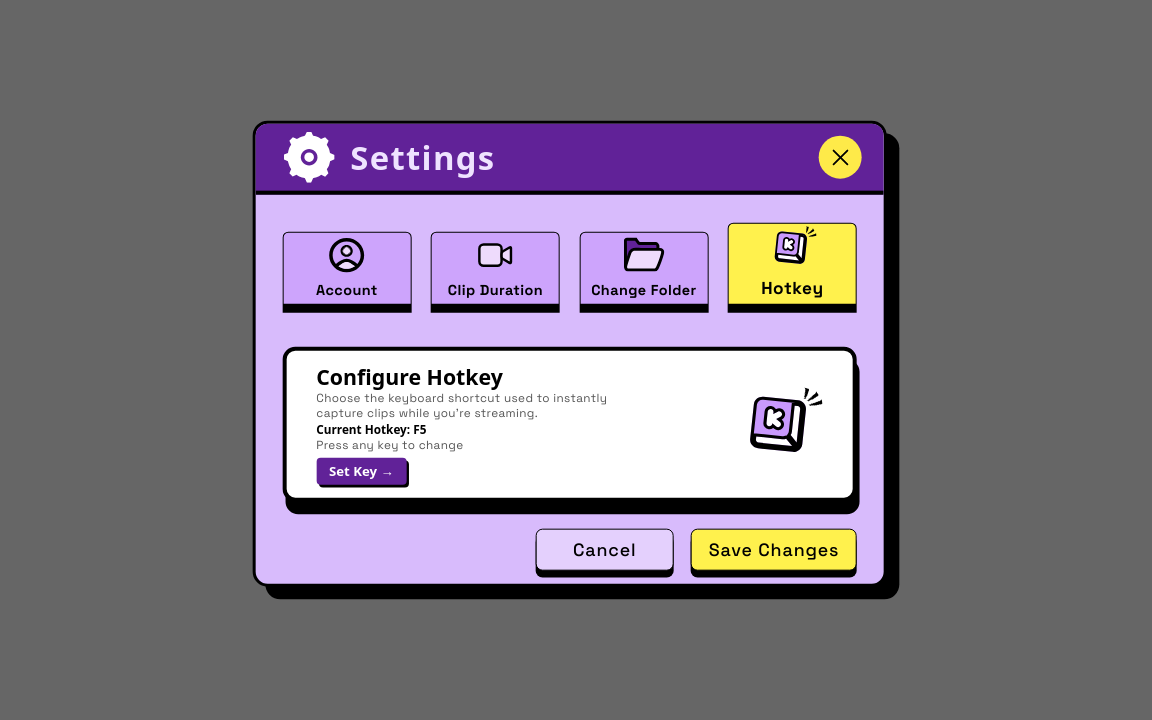
Test case: settings dialog › stays open and explains a hotkey that is taken
The image size is (1152, 720).
Click the button "Set Key →" at [361, 471], box 316,458 -> 406,484
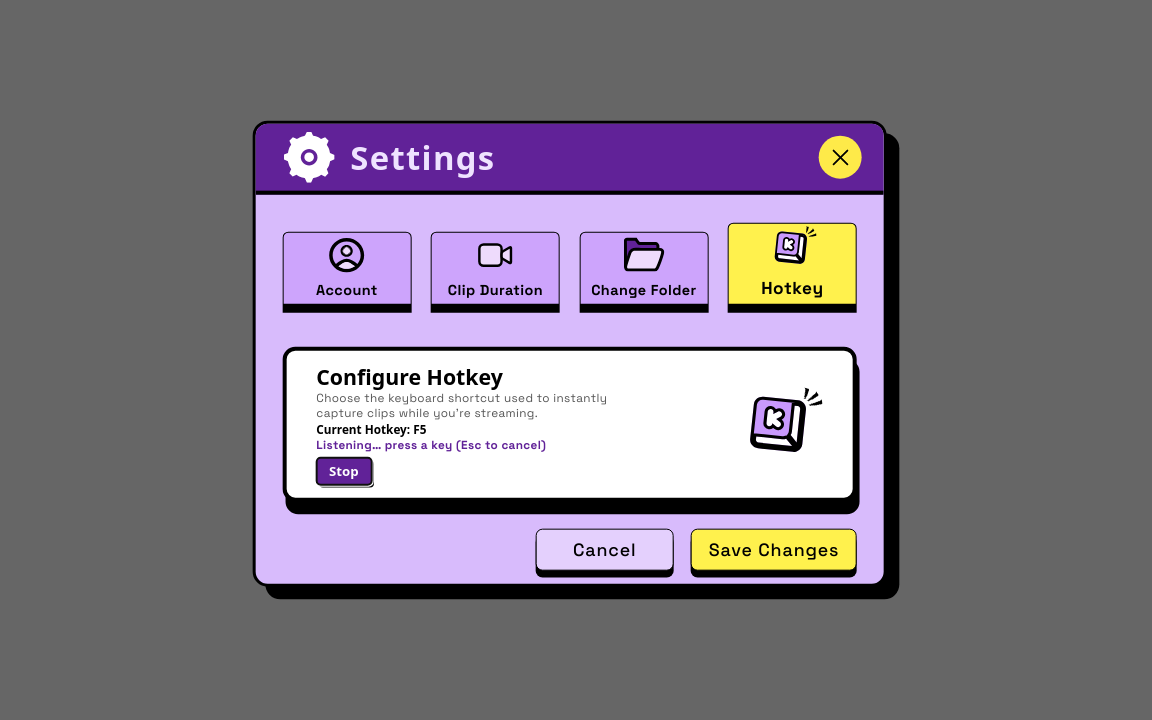
Press F12
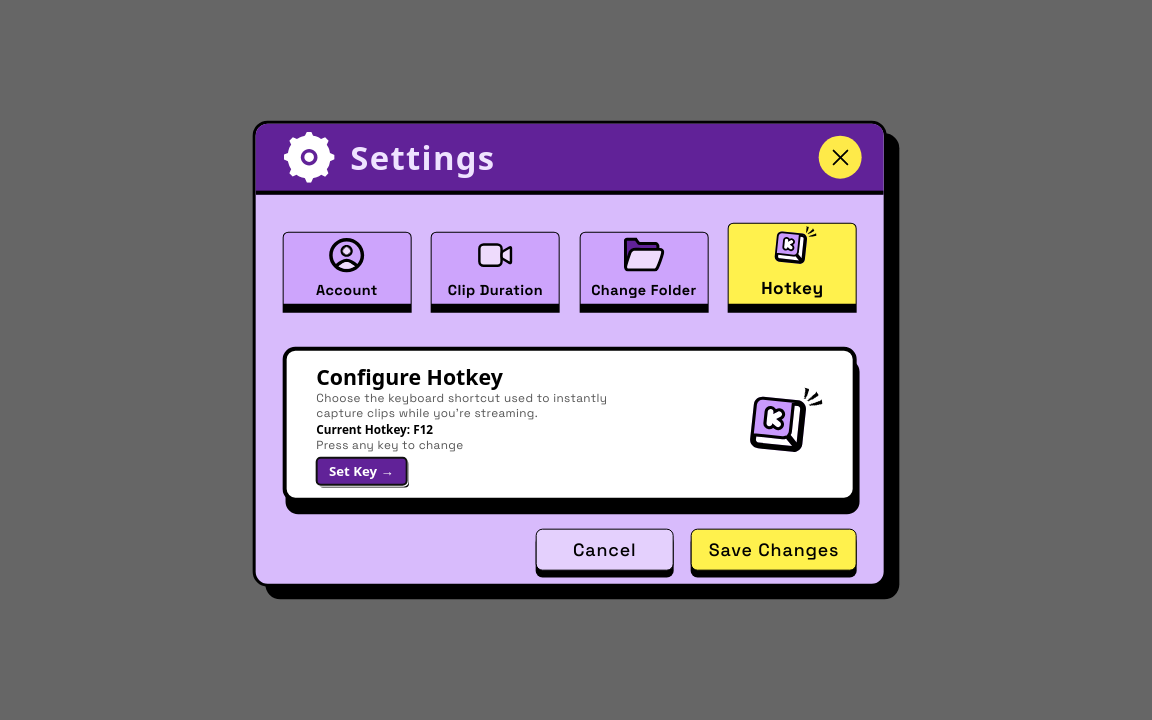
Click the button "Save Changes" at [774, 550], box 691,529 -> 857,571
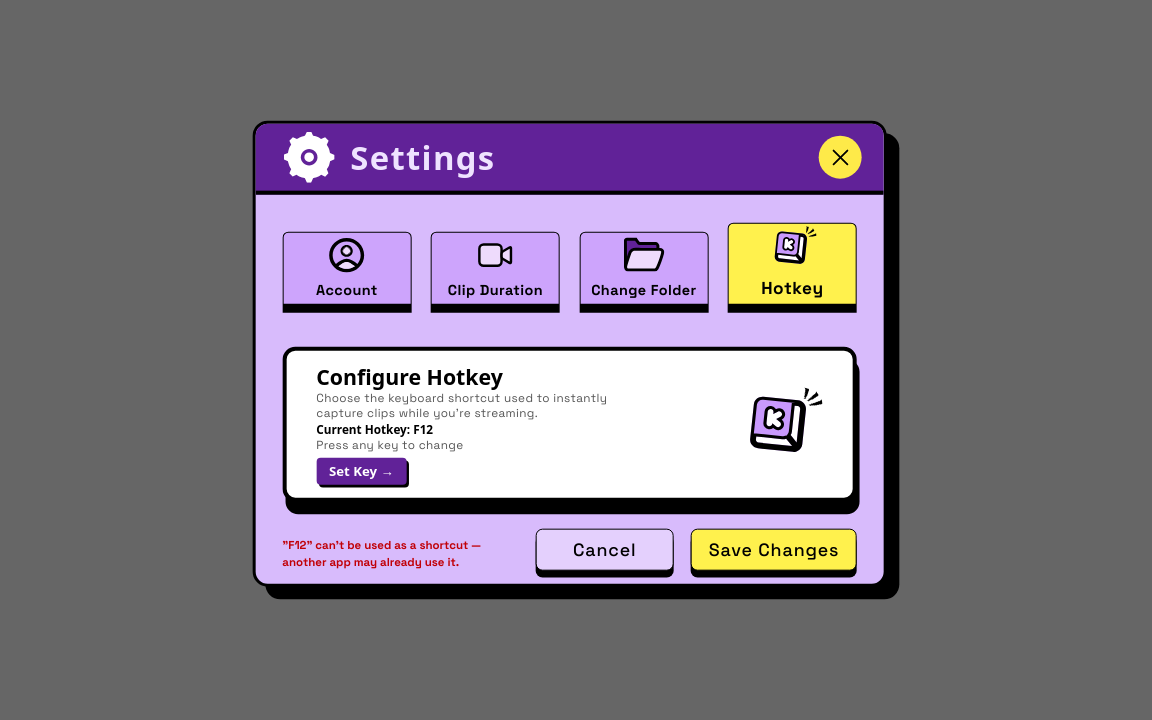
Result: the message shows "\"F12\" can't be used as a shortcut" at 282,538 -> 481,569
